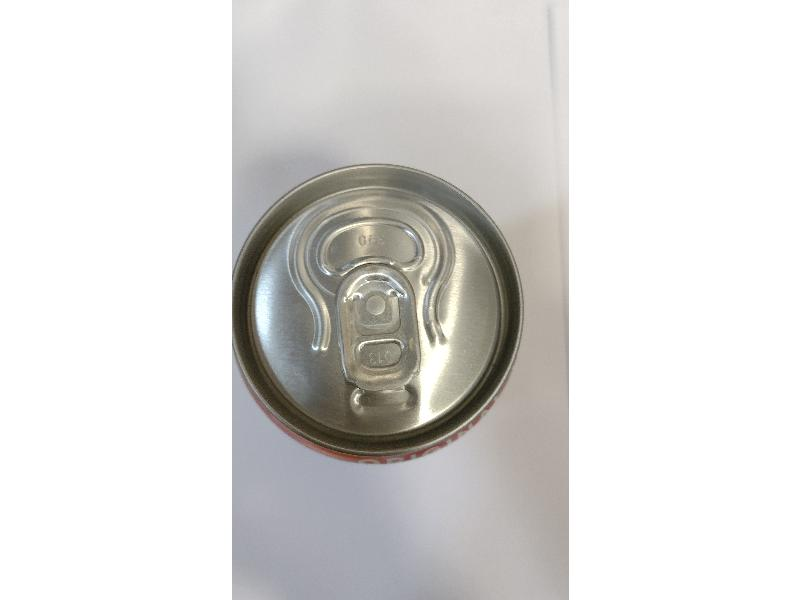can: (233, 159, 527, 465)
